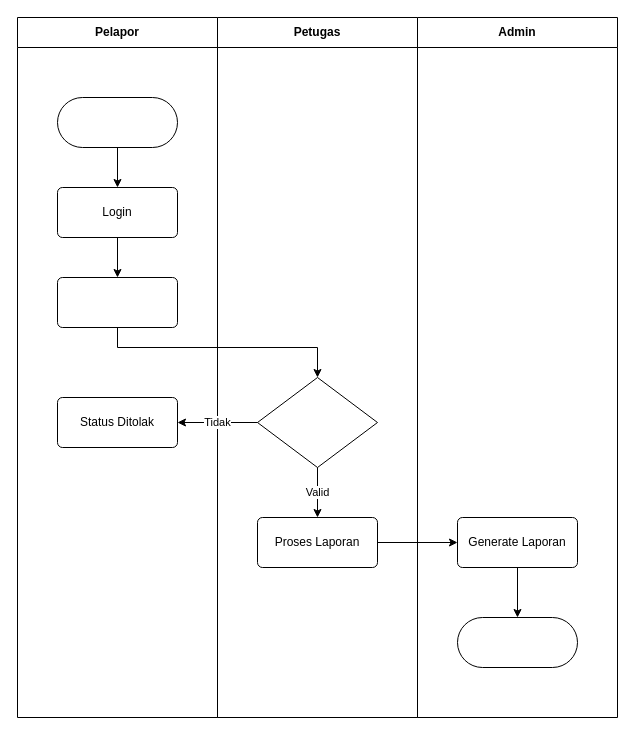
The diagram is 635 pixels wide and 735 high, and some of its shapes have lost their labels. The shapes that lost their labels are listed below. From the top down, each one's centre as x and y in pixels, then its label:
At (117,122): "Start".
At (117,302): "Input Data & Pengaduan".
At (317,422): "Validasi?".
At (517,642): "Selesai".
